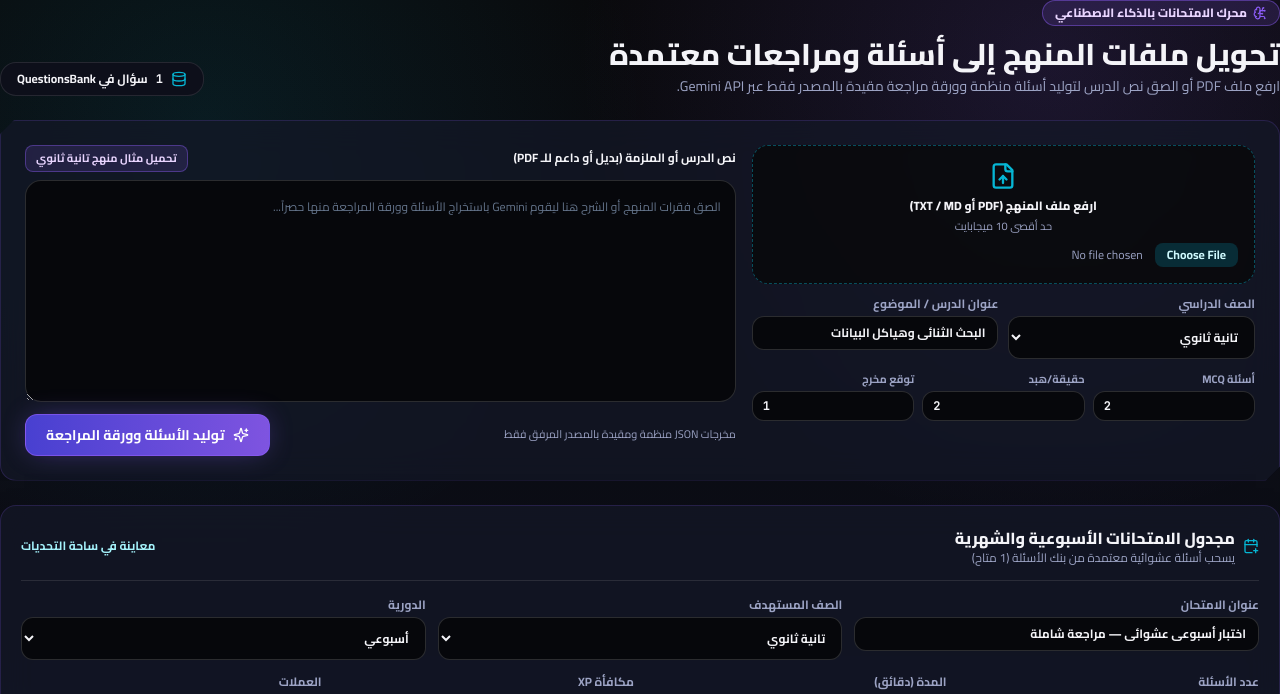
Test case: Admin AI Exam Engine Studio UI › generates structured questions + cheat sheet, edits and approves a question, and schedules an exam
Expected: the text with test id "bank-count" reads "1", [156, 71, 163, 87]
// Load sample curriculum & generate
Click the button "تحميل مثال منهج تانية ثانوي" at (106, 158), box [25, 145, 188, 172]
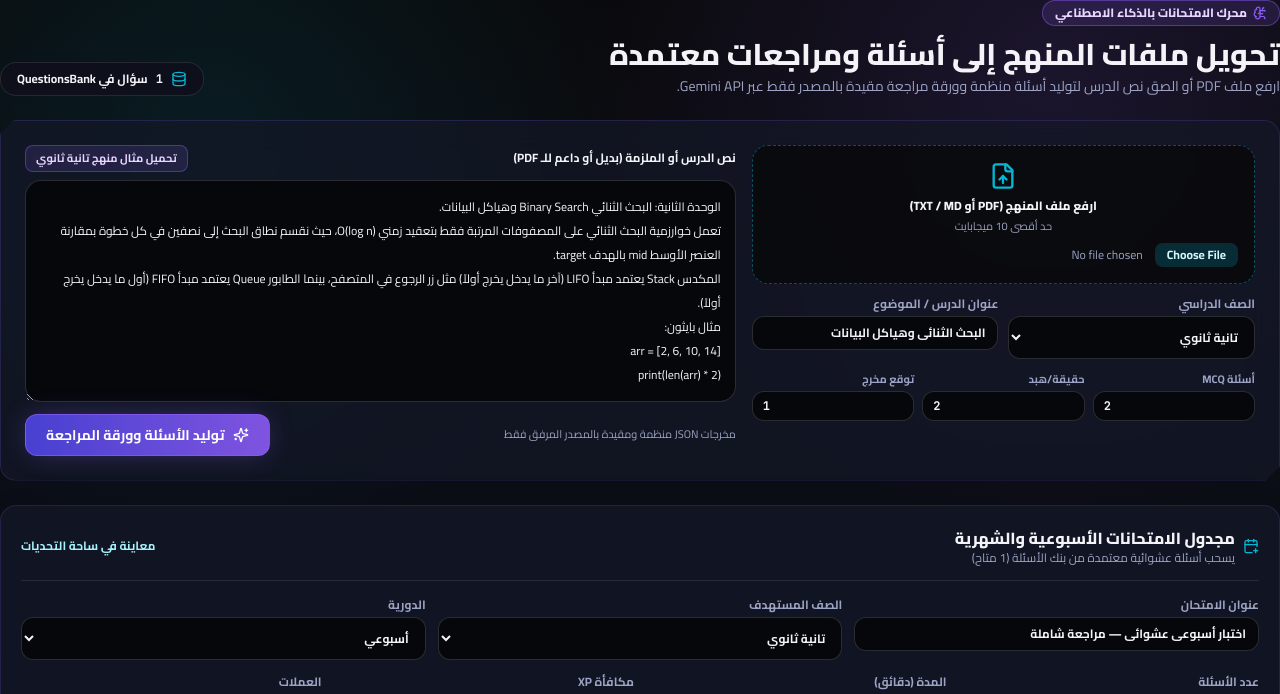
Click the button "توليد الأسئلة وورقة المراجعة" at (147, 434), box [25, 414, 270, 456]
(page scrolled)
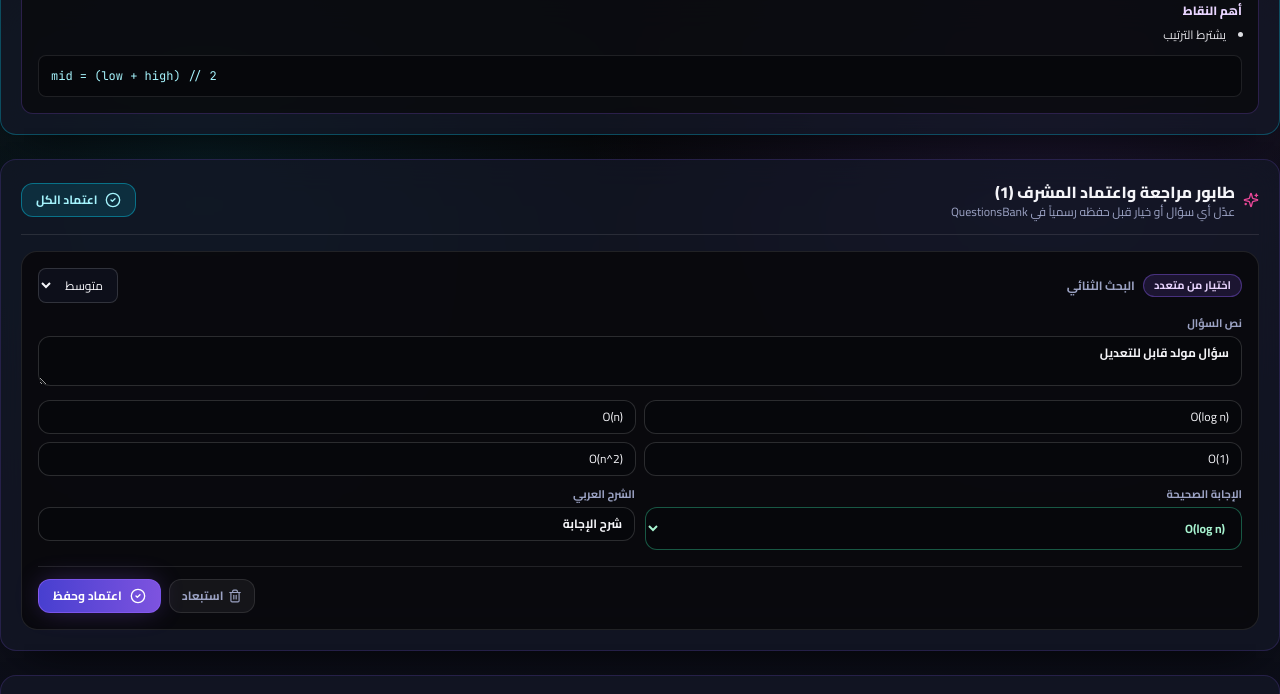
Expected: the element with test id "approval-queue" is shown
// Edit question text inline inside Approval Queue & approve
Replace the text in the text box showing "سؤال مولد قابل للتعديل" with "سؤال معدل بعد المراجعة" at (640, 360), box [38, 336, 1242, 386]
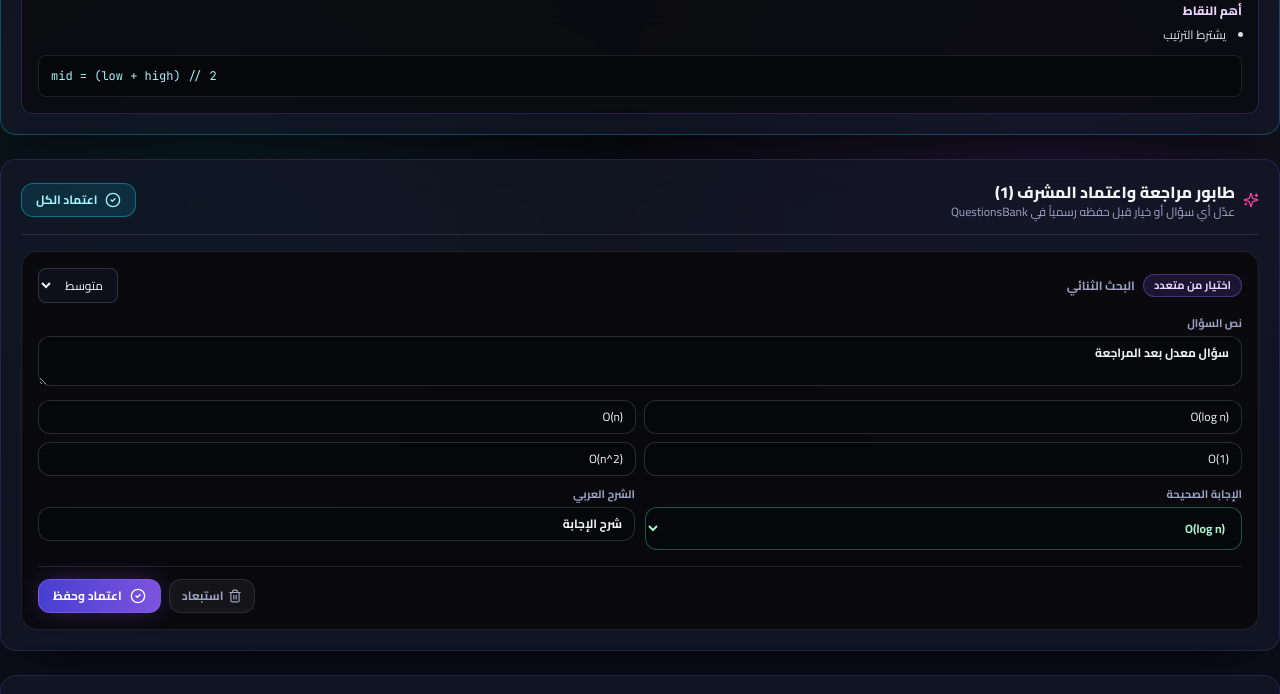
Click the button "اعتماد وحفظ" at (99, 596), box [38, 578, 161, 612]
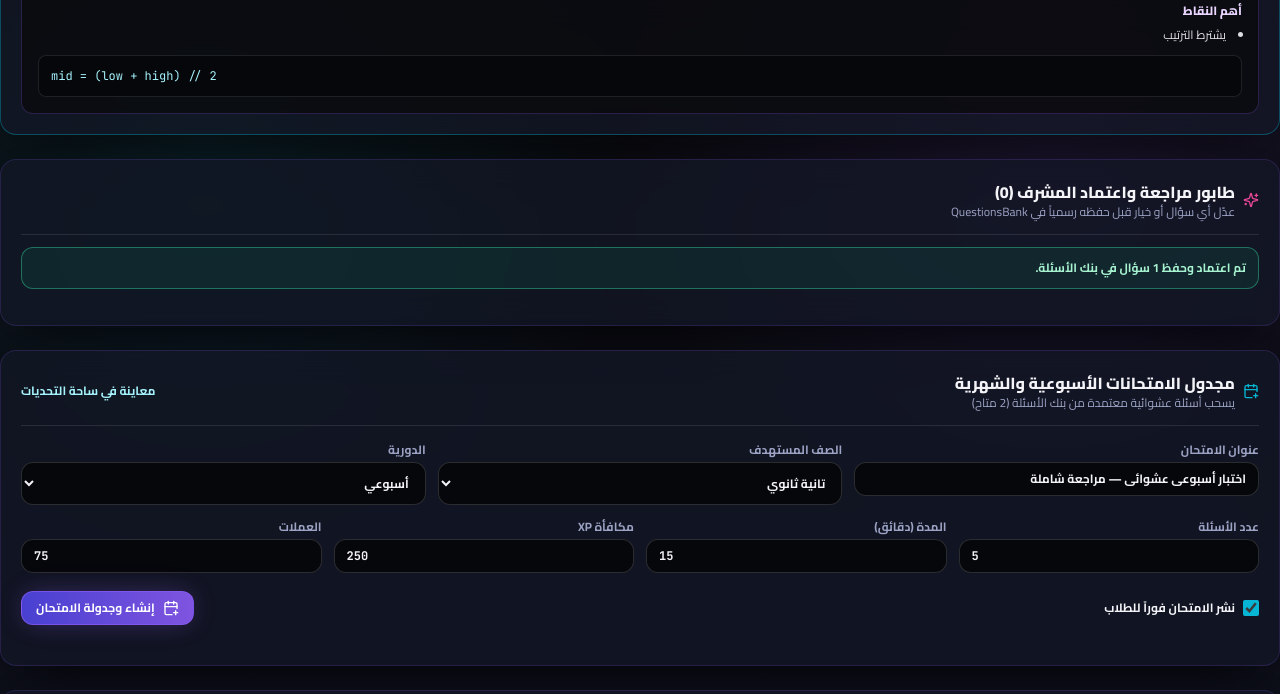
// Schedule randomized exam
Click the button "إنشاء وجدولة الامتحان" at (107, 608), box [21, 591, 194, 625]
(page scrolled)
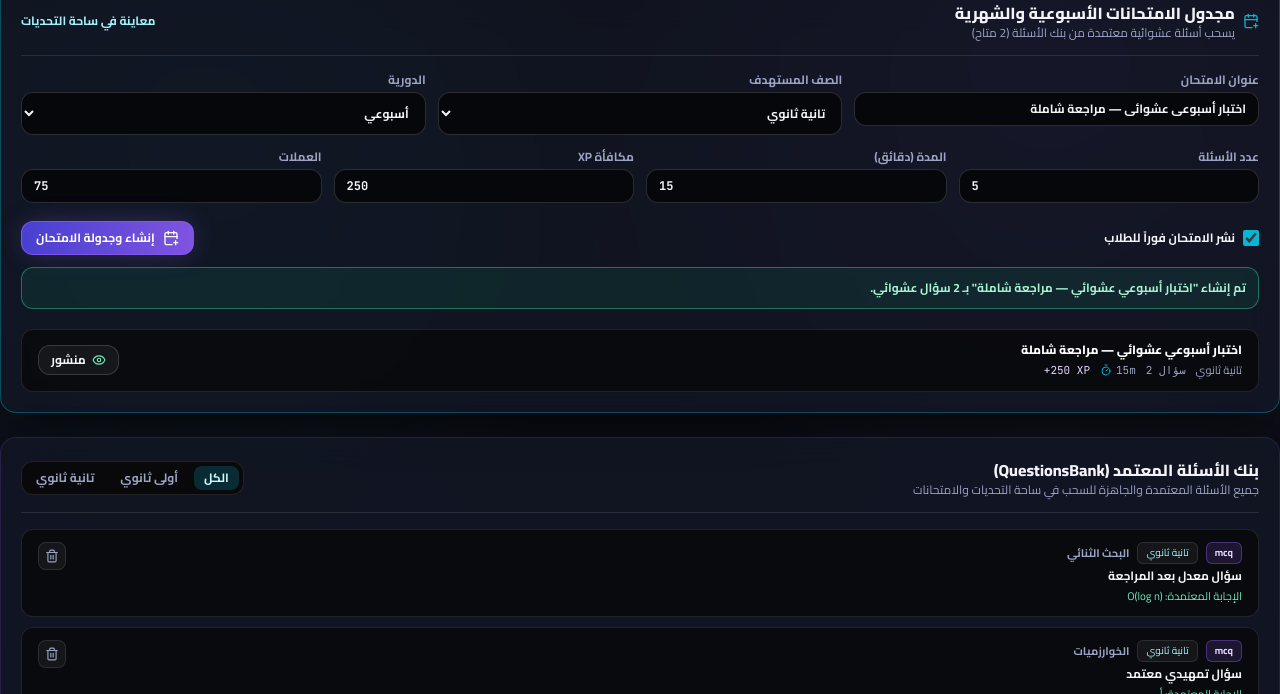
Expected: the element with test id "scheduled-exam-88" is shown, [21, 329, 1259, 392]
